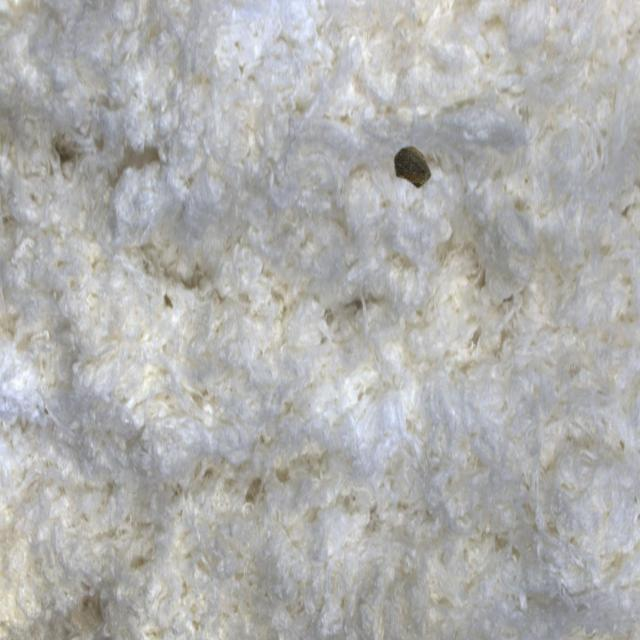dust: (384, 123, 451, 215)
